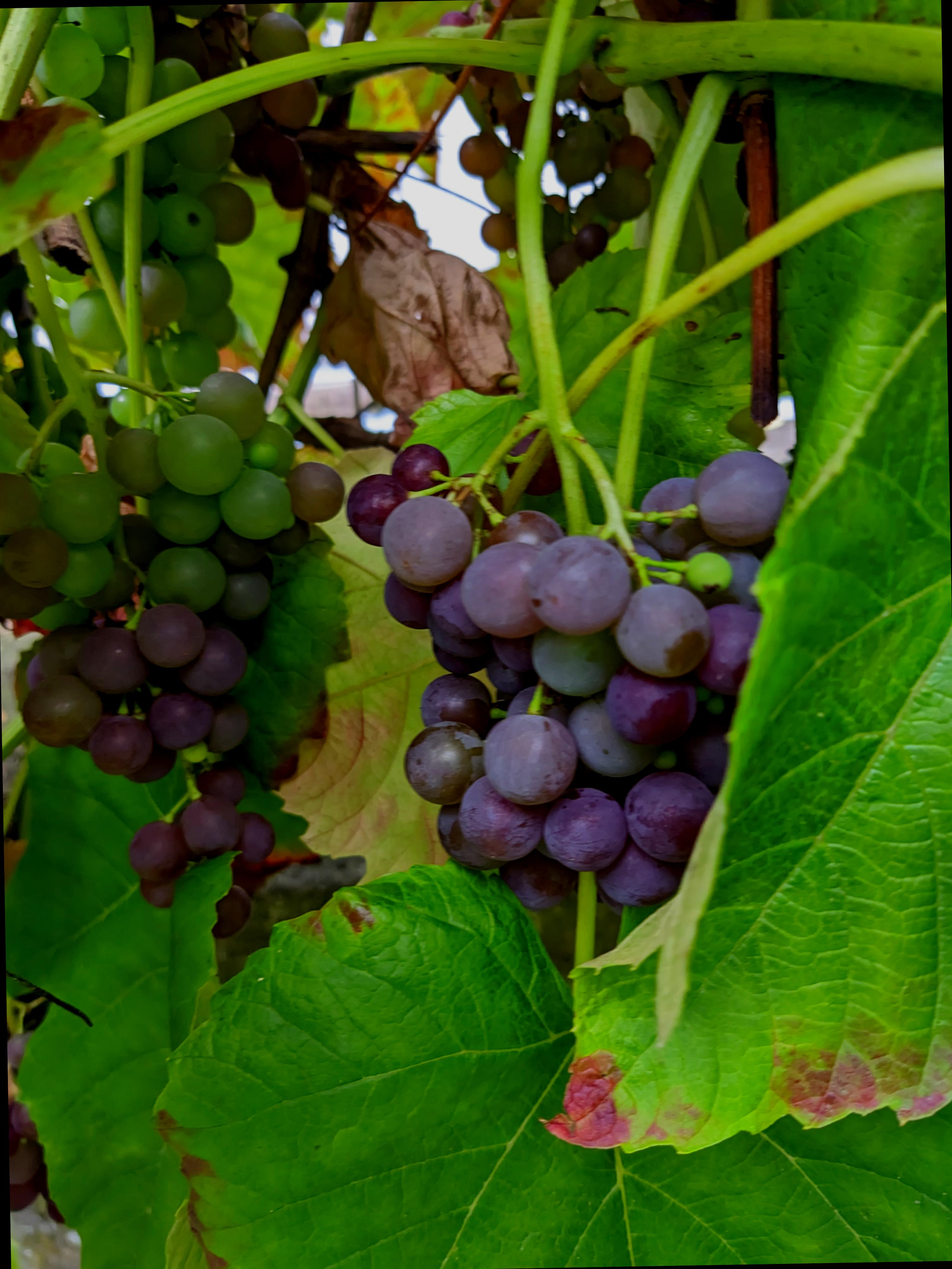Grape Unripe: (338, 444, 774, 929), (0, 372, 354, 948), (1, 19, 315, 414), (443, 5, 646, 292)
